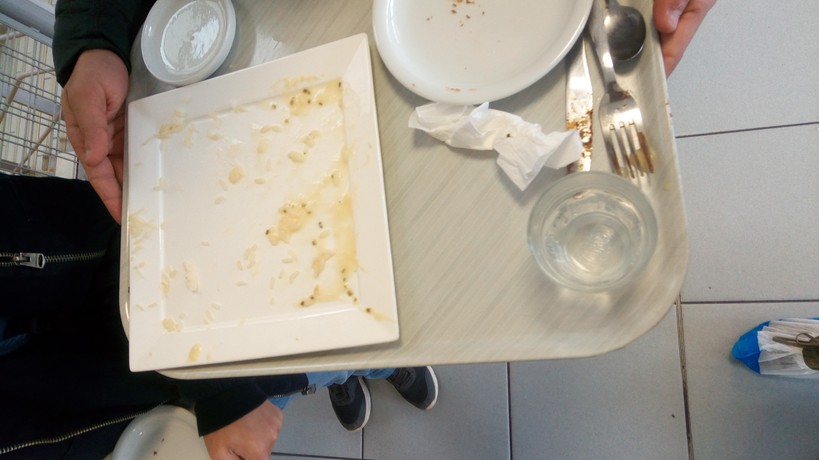cup: (524, 157, 671, 290)
cutlery: (566, 1, 661, 175)
trash: (409, 99, 583, 185)
